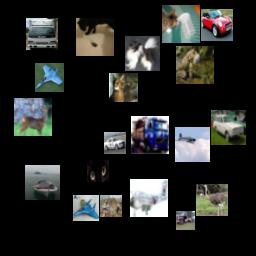airplane: (130, 179, 168, 217), (175, 127, 210, 162), (35, 63, 64, 92), (73, 195, 99, 221)
automobile: (211, 110, 246, 145), (201, 9, 233, 41), (104, 132, 126, 154)
bird: (196, 184, 228, 216)
cat: (76, 18, 114, 56), (162, 5, 200, 43), (109, 73, 138, 102), (87, 160, 109, 182)
deer: (14, 98, 52, 136)
dog: (125, 36, 160, 71)
frog: (176, 46, 214, 84), (100, 195, 122, 217)
ship: (25, 165, 60, 200)
truck: (131, 116, 169, 154), (26, 18, 58, 50), (176, 211, 195, 230)
